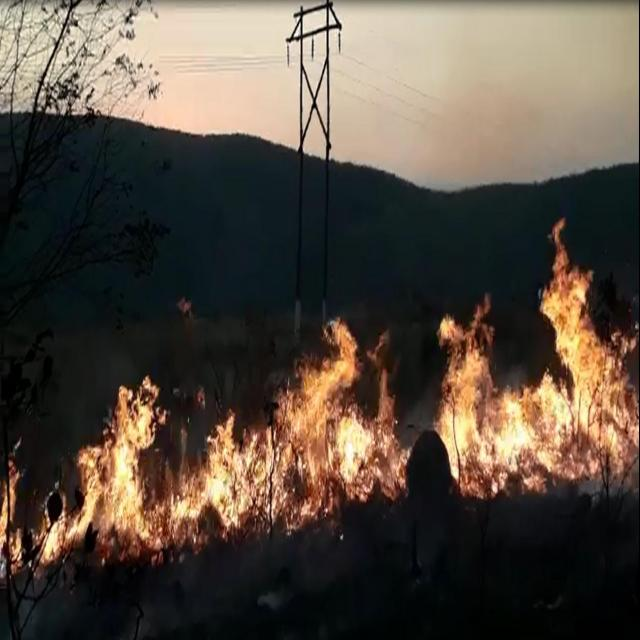fire: (38, 214, 635, 573), (0, 443, 31, 581)
